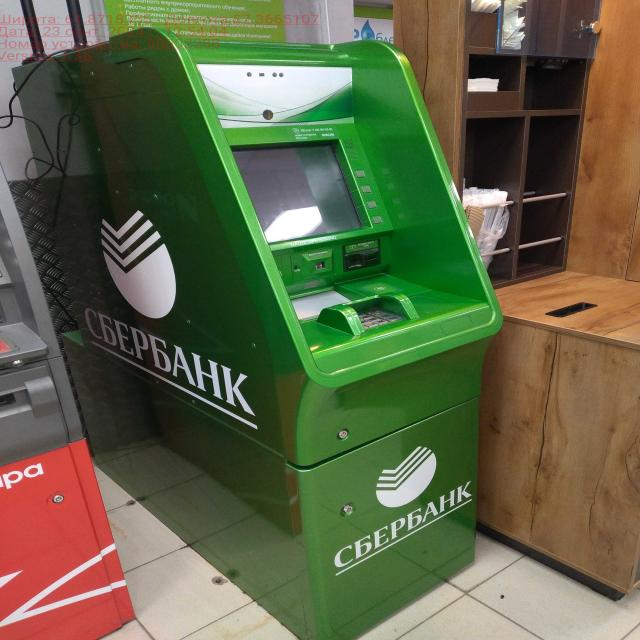bank: (12, 33, 487, 640)
